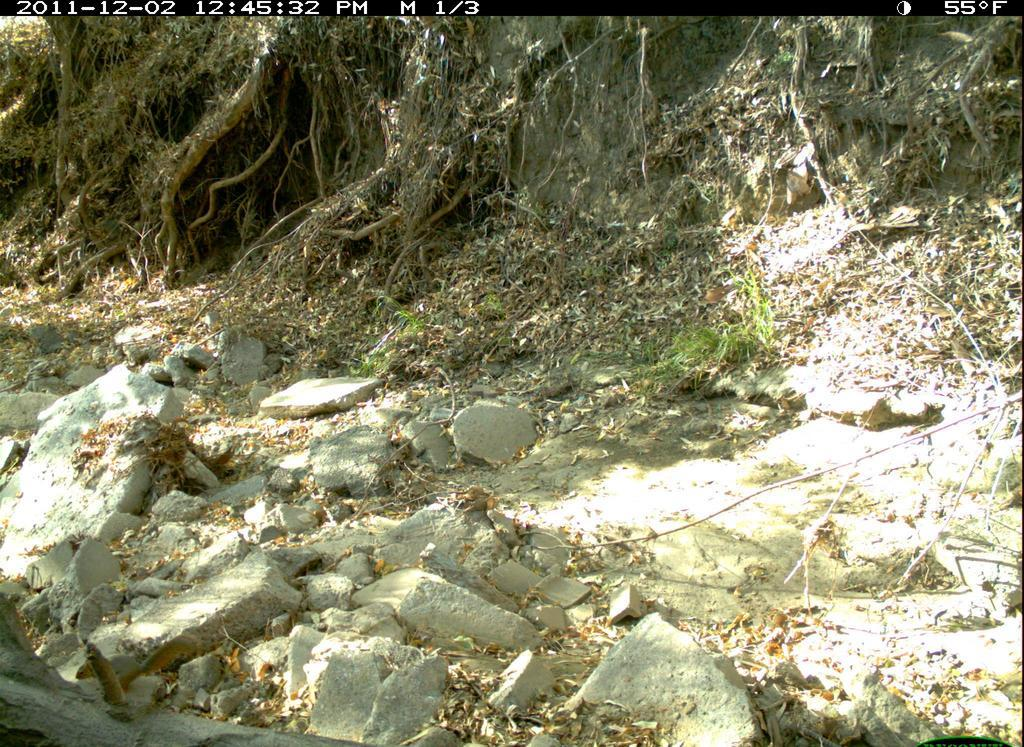squirrel: (67, 628, 217, 701)
